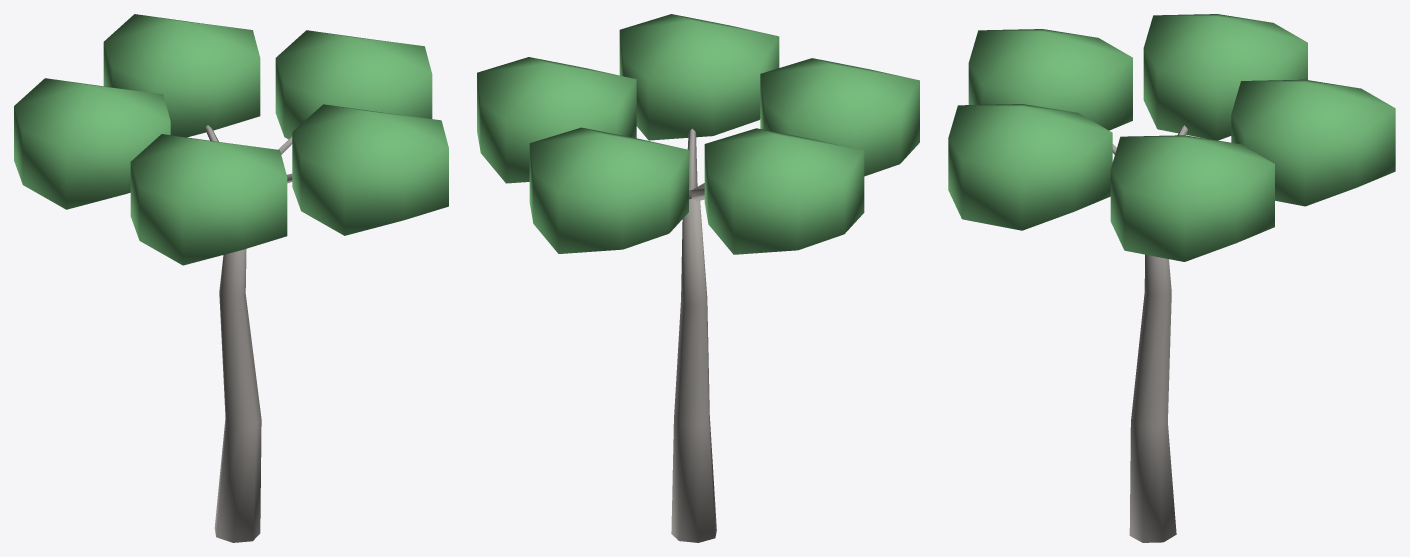
The model's file is tree_chinese_hackberry.glb.
3 views of the same model, side by side, from view 1: azimuth 30°, elevation 25°; view 2: azimuth 150°, elevation 25°; view 3: azimuth 270°, elevation 25° (orthographic).
Visible parts, largest first — view 1: Flora_Chinese_Hackberry; view 2: Flora_Chinese_Hackberry; view 3: Flora_Chinese_Hackberry.
Boxes of the visible parts, left/top/right/bottom form: Flora_Chinese_Hackberry: left=14, top=14, right=448, bottom=542; Flora_Chinese_Hackberry: left=477, top=14, right=919, bottom=542; Flora_Chinese_Hackberry: left=948, top=14, right=1395, bottom=542.
Size of the model in its own units: 7.13 by 8.02 by 7.07.
